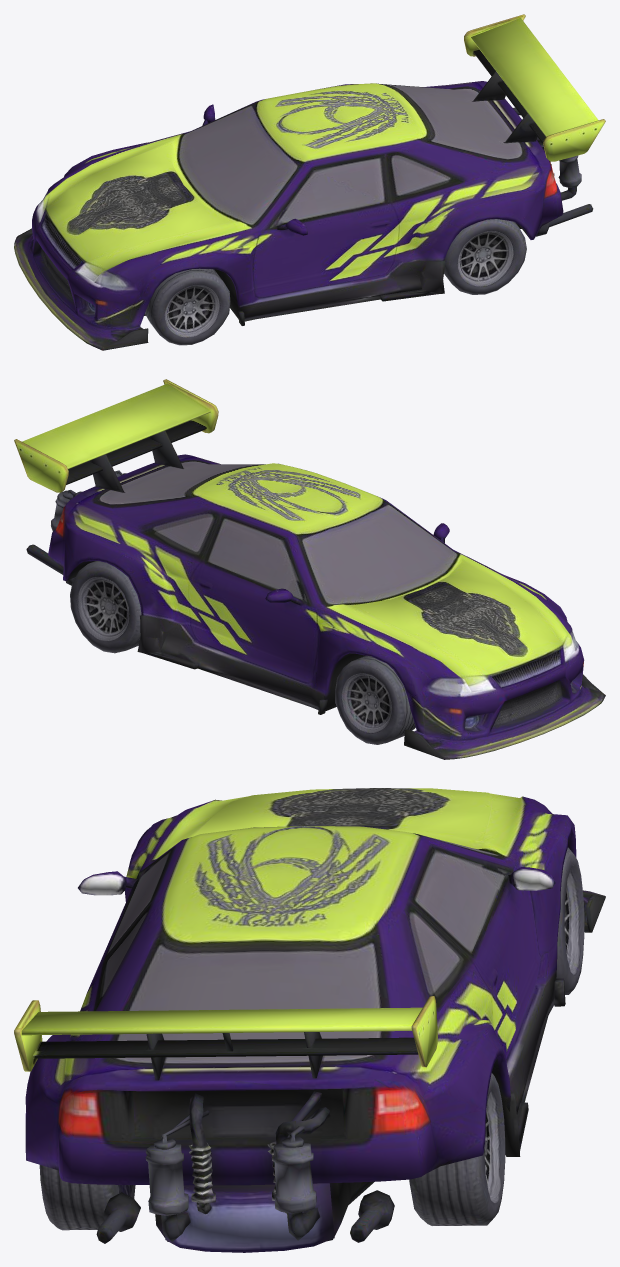
The model's file is modified-sports-car.glb.
3 renders of one model, top to bottom at view 1: azimuth 30°, elevation 25°; view 2: azimuth 150°, elevation 25°; view 3: azimuth 270°, elevation 25°, orthographic. The views are drawn at different scales.
Parts seen in each view (by area): view 1: tripo_node_f0cdea97-64f0-461c-9d84-c5ad25d106d9; view 2: tripo_node_f0cdea97-64f0-461c-9d84-c5ad25d106d9; view 3: tripo_node_f0cdea97-64f0-461c-9d84-c5ad25d106d9.
Part boxes in pixels (<box>): tripo_node_f0cdea97-64f0-461c-9d84-c5ad25d106d9: <box>14,14,605,350</box>; tripo_node_f0cdea97-64f0-461c-9d84-c5ad25d106d9: <box>14,379,605,759</box>; tripo_node_f0cdea97-64f0-461c-9d84-c5ad25d106d9: <box>14,788,605,1252</box>.
Bounding box in the file's own units: 1.02 × 0.3496 × 0.578.
Materials: 1 (1 with a texture image).
